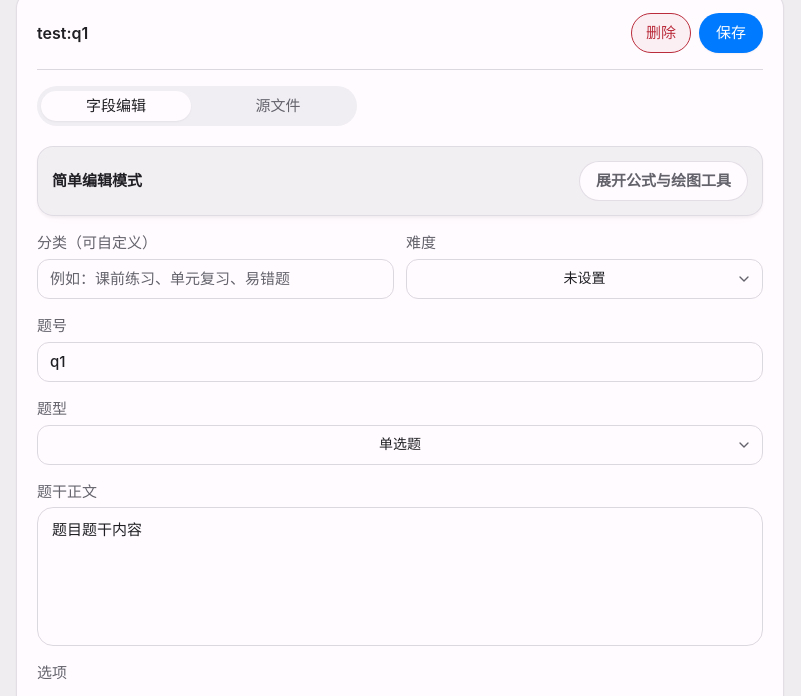
Test: BankQuestionEditorPanel User Journeys › Single Question Mode › updates category and metadata rows cleanly
In the field named "题目分类": {"x": 216, "y": 279} [37,258,394,299], type "课前预习"
(page scrolled)
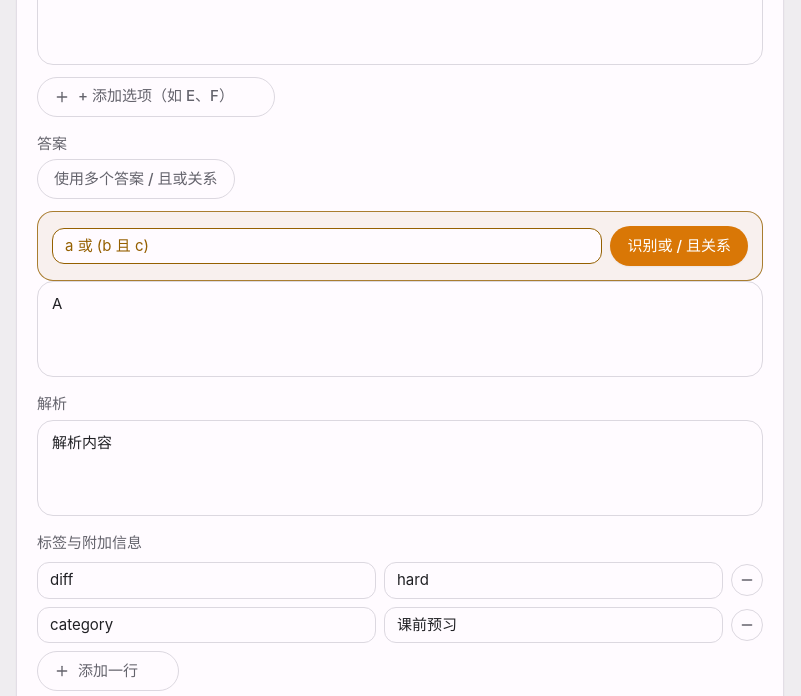
// Add custom metadata row
Click the button "添加一行": {"x": 108, "y": 671} [37,651,179,691]
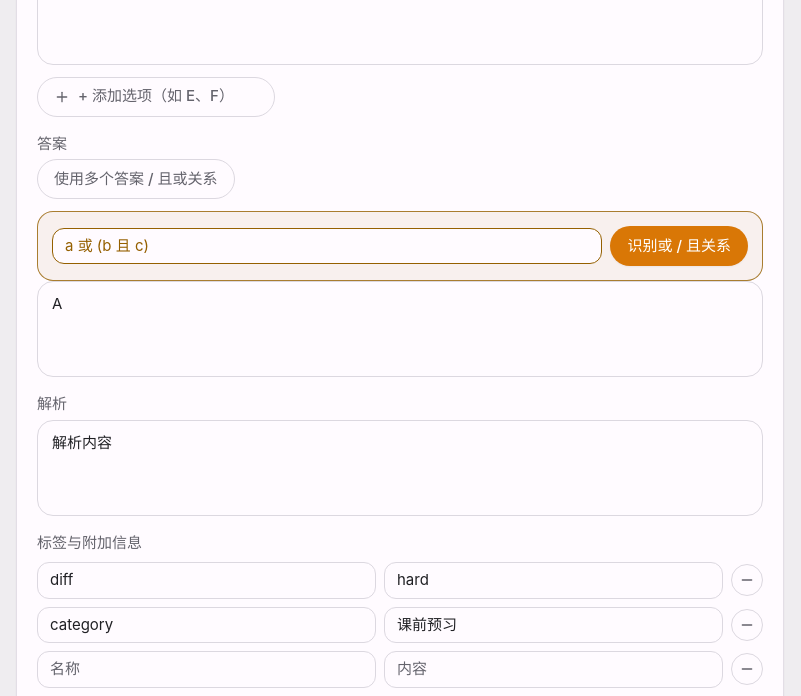
expect the number of fields with placeholder "名称" is 3: met, box [37,562,376,599]; [37,607,376,643]; [37,651,376,688]
